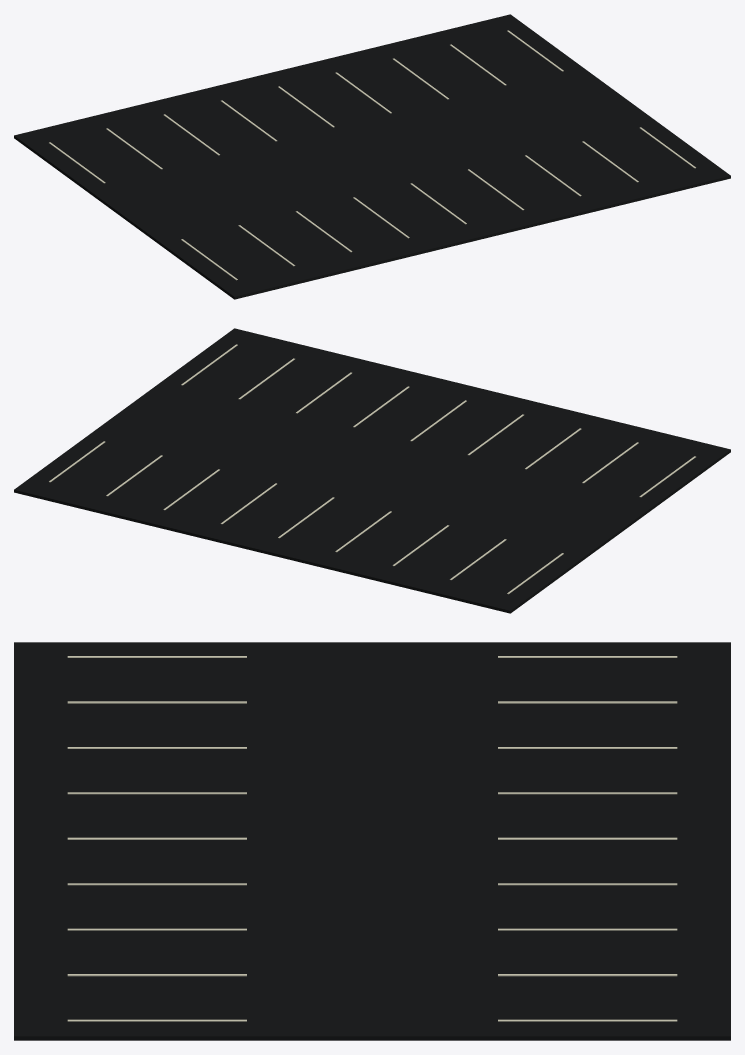
The model's file is parking_lot.obj.
3 views of the same model, one above another, from view 1: azimuth 30°, elevation 25°; view 2: azimuth 150°, elevation 25°; view 3: azimuth 270°, elevation 25° (orthographic). The views are drawn at different scales.
Visible parts, largest first — view 1: Asphalt, White_Paint; view 2: Asphalt, White_Paint; view 3: Asphalt, White_Paint.
Part boxes in pixels (x1,y1,x2,y2): Asphalt: (14,14,730,299); White_Paint: (49,30,695,280); Asphalt: (14,328,730,613); White_Paint: (49,344,695,594); Asphalt: (14,642,730,1040); White_Paint: (67,656,677,1021).
Bounding box in the file's own units: 26 × 0.164 × 20.
